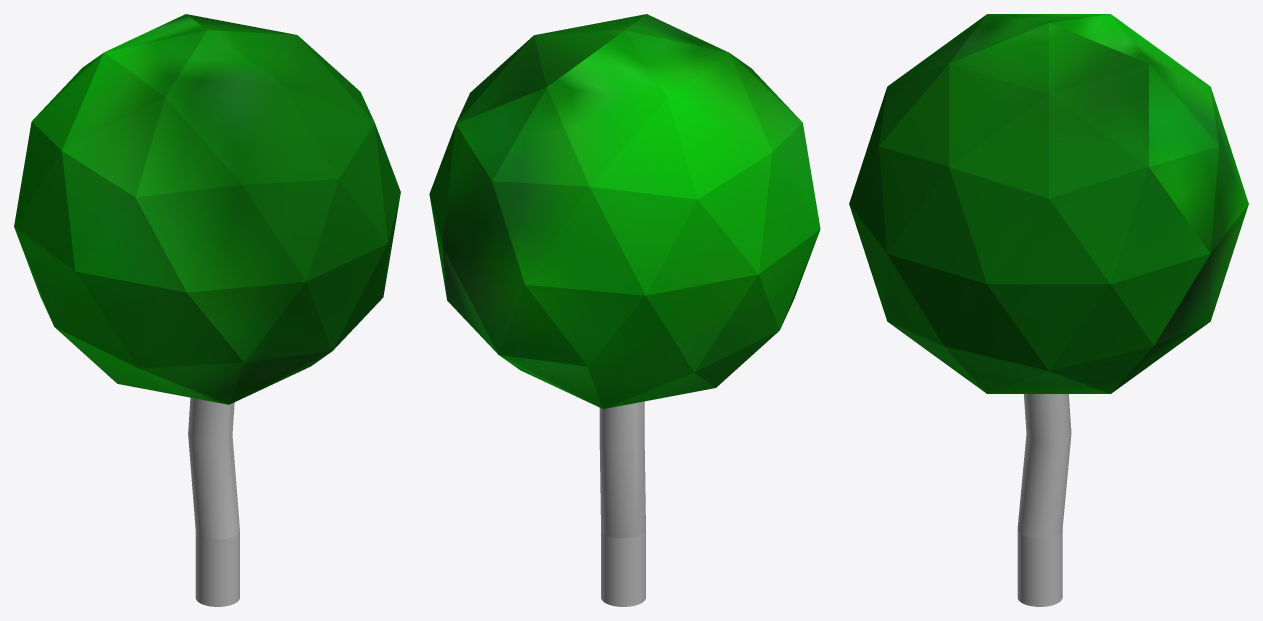
The model's file is Tree_Rounded.fbx.
The picture shows the model from 3 angles, left to right: view 1: azimuth 30°, elevation 25°; view 2: azimuth 150°, elevation 25°; view 3: azimuth 270°, elevation 25°; orthographic projection.
Parts seen in each view (by area): view 1: Icosphere, Icosphere.001; view 2: Icosphere, Icosphere.001; view 3: Icosphere, Icosphere.001.
Part boxes in pixels (x1=…): Icosphere: x1=14, y1=14, x2=400, y2=539; Icosphere.001: x1=195, y1=531, x2=239, y2=606; Icosphere: x1=429, y1=14, x2=820, y2=538; Icosphere.001: x1=601, y1=530, x2=645, y2=606; Icosphere: x1=849, y1=14, x2=1248, y2=538; Icosphere.001: x1=1017, y1=529, x2=1062, y2=606.
Bounding box in the file's own units: 238 × 395 × 250.
